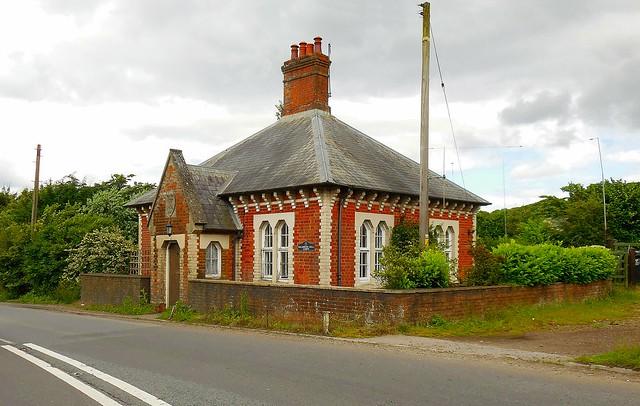low: (118, 110, 492, 324)
